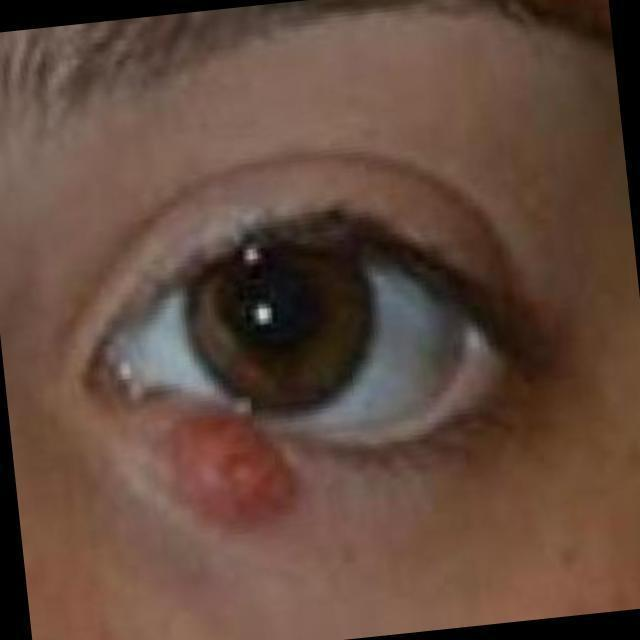Stye: (92, 359, 376, 556)
